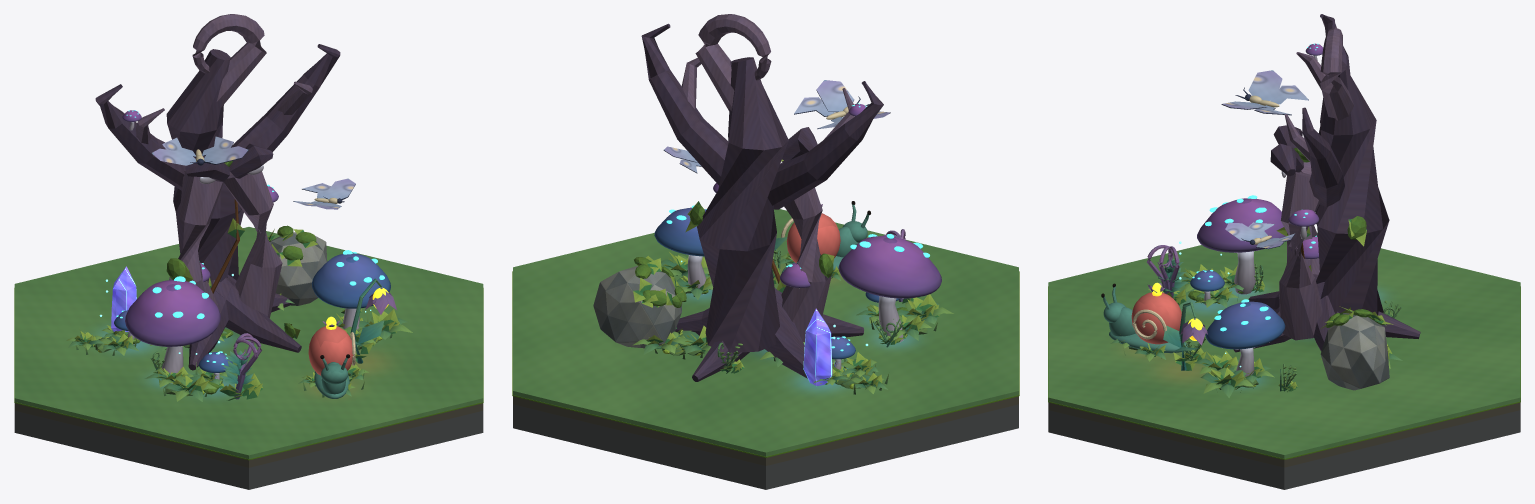
The model's file is hex_hollow_watchers.glb.
3 views of the same model, side by side, from view 1: azimuth 30°, elevation 25°; view 2: azimuth 150°, elevation 25°; view 3: azimuth 270°, elevation 25° (orthographic). The views are drawn at different scales.
Parts seen in each view (by area): view 1: Standard hex meadow top.001, Standard hex stone foundation.001, Hollow watcher rear trunk.001, Broad faceted mushroom cap.007, Hollow watcher cheek timber.003, Standard hex earth layer.001, Watcher spiral crown.001, Broad faceted mushroom cap.009, Hollow watcher cheek timber.002, Crooked reaching bough.003, Crooked reaching bough.002, Angular mossy forest boulder.001 (+9 smaller); view 2: Standard hex meadow top.001, Hollow watcher rear trunk.001, Standard hex stone foundation.001, Broad faceted mushroom cap.007, Angular mossy forest boulder.001, Standard hex earth layer.001, Crooked reaching bough.003, Crooked reaching bough.002, Hollow watcher cheek timber.002, Watcher spiral crown.001, Faceted magical crystal.002, Splayed dreaming tree root.007 (+8 smaller); view 3: Standard hex meadow top.001, Standard hex stone foundation.001, Hollow watcher rear trunk.001, Hollow watcher cheek timber.003, Angular mossy forest boulder.001, Standard hex earth layer.001, Broad faceted mushroom cap.007, Broad faceted mushroom cap.009, Crooked reaching bough.003, Watcher spiral crown.001, Coral lantern shell.001, Curving luminous mushroom stem.007 (+7 smaller).
Part boxes in pixels (x1,y1,x2,y2): Standard hex meadow top.001: (14,227,483,458); Standard hex stone foundation.001: (14,411,483,489); Hollow watcher rear trunk.001: (166,49,243,281); Broad faceted mushroom cap.007: (125,280,220,346); Hollow watcher cheek timber.003: (223,171,282,318); Standard hex earth layer.001: (14,403,483,467); Watcher spiral crown.001: (192,14,266,107); Broad faceted mushroom cap.009: (311,253,390,308); Hollow watcher cheek timber.002: (169,171,223,305); Crooked reaching bough.003: (229,44,340,171); Crooked reaching bough.002: (95,84,195,190); Angular mossy forest boulder.001: (270,232,327,305); Standard hex meadow top.001: (513,209,1018,456); Hollow watcher rear trunk.001: (697,57,788,352); Standard hex stone foundation.001: (513,404,1018,489); Broad faceted mushroom cap.007: (838,236,941,298); Angular mossy forest boulder.001: (593,266,682,348); Standard hex earth layer.001: (513,396,1018,465); Crooked reaching bough.003: (641,23,728,185); Crooked reaching bough.002: (767,81,883,209); Hollow watcher cheek timber.002: (780,162,831,342); Watcher spiral crown.001: (695,14,771,110); Faceted magical crystal.002: (803,308,832,385); Splayed dreaming tree root.007: (765,292,807,378); Standard hex meadow top.001: (1048,232,1520,458); Standard hex stone foundation.001: (1048,410,1520,489); Hollow watcher rear trunk.001: (1315,61,1389,315); Hollow watcher cheek timber.003: (1279,172,1322,340); Angular mossy forest boulder.001: (1320,313,1389,390); Standard hex earth layer.001: (1048,402,1520,467); Broad faceted mushroom cap.007: (1197,198,1285,252); Broad faceted mushroom cap.009: (1205,301,1285,349); Crooked reaching bough.003: (1302,107,1344,206); Watcher spiral crown.001: (1320,27,1353,120); Coral lantern shell.001: (1131,292,1181,344); Curving luminous mushroom stem.007: (1234,251,1255,294).
Size of the model in its own units: 5.11 by 3.56 by 4.42.
Materials: 60 (50 with a texture image).
